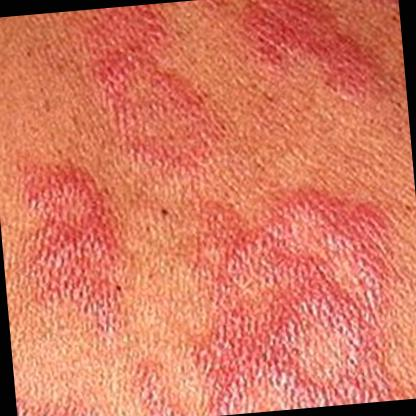Leprosy: (114, 185, 416, 416), (225, 0, 398, 128), (17, 162, 124, 354), (90, 45, 224, 186), (15, 387, 104, 416)
